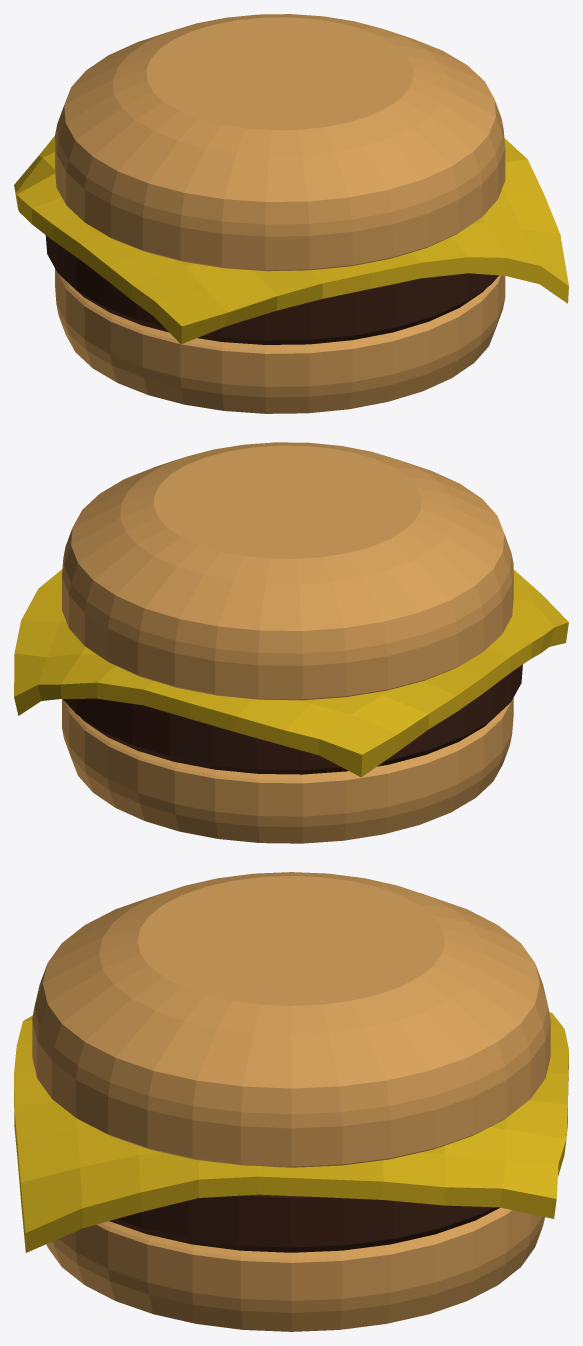
Rendered from cheeseburger.fbx.
The picture shows the model from 3 angles, top to bottom: view 1: azimuth 30°, elevation 25°; view 2: azimuth 150°, elevation 25°; view 3: azimuth 270°, elevation 25°; orthographic projection. The views are drawn at different scales.
Parts seen in each view (by area): view 1: Cheeseburger; view 2: Cheeseburger; view 3: Cheeseburger.
Part boxes in pixels (left/top/right/bottom): Cheeseburger: left=14, top=14, right=568, bottom=413; Cheeseburger: left=14, top=442, right=568, bottom=843; Cheeseburger: left=14, top=872, right=568, bottom=1331.
Bounding box in the file's own units: 21.41 × 21.48 × 12.9.
